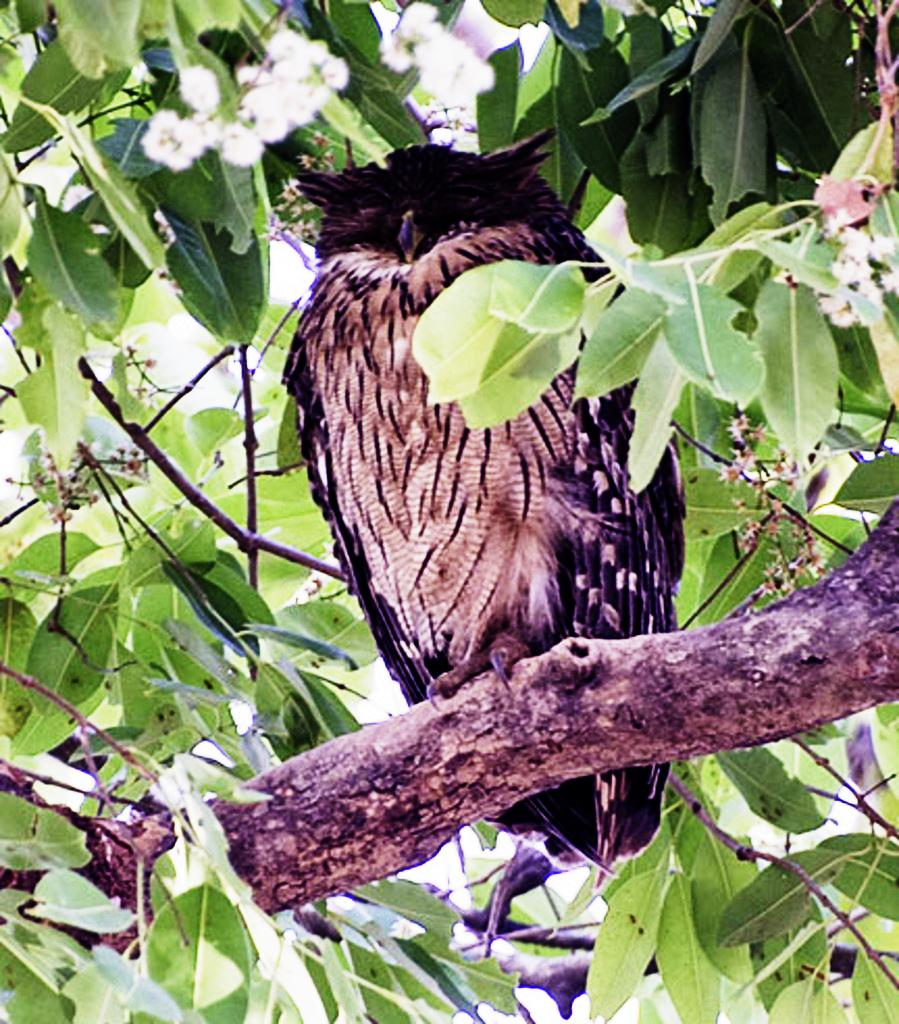Owl: (278, 127, 706, 878)
